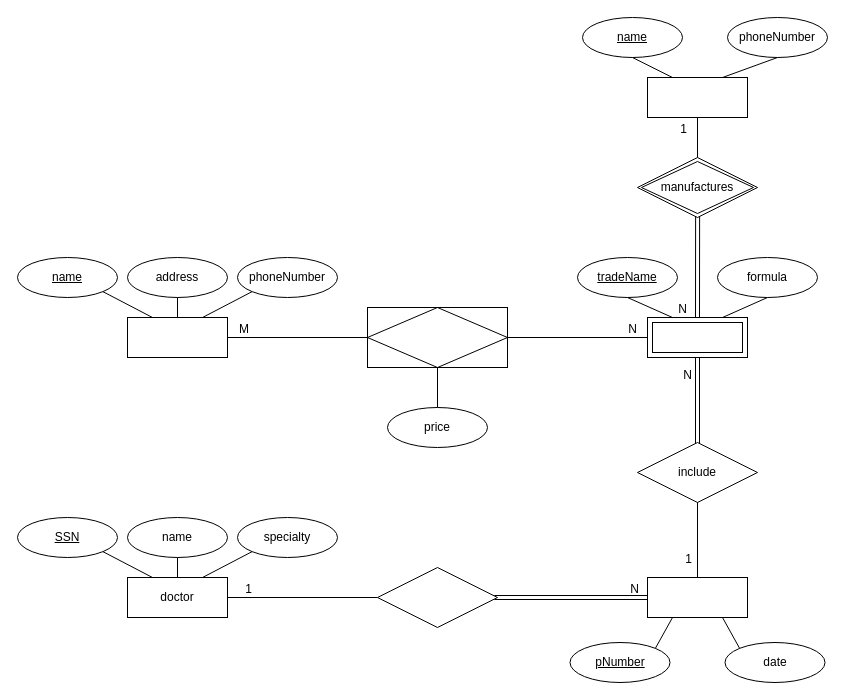
This 845x700 diagram has some shape labels left out. Here are the shapes that lost their labels. From the top down, the centre of each, then its label:
At point 697,97: "pharmaceutical company".
At point 177,337: "pharmacy".
At point 437,337: "sells".
At point 697,337: "drug".
At point 437,597: "makes".
At point 697,597: "prescription".
